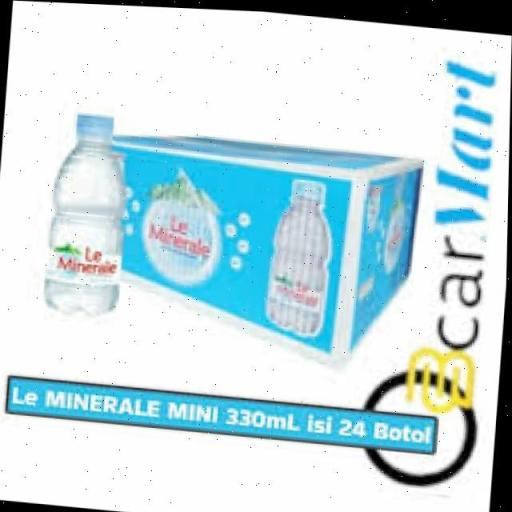plastic: (44, 110, 138, 321)
